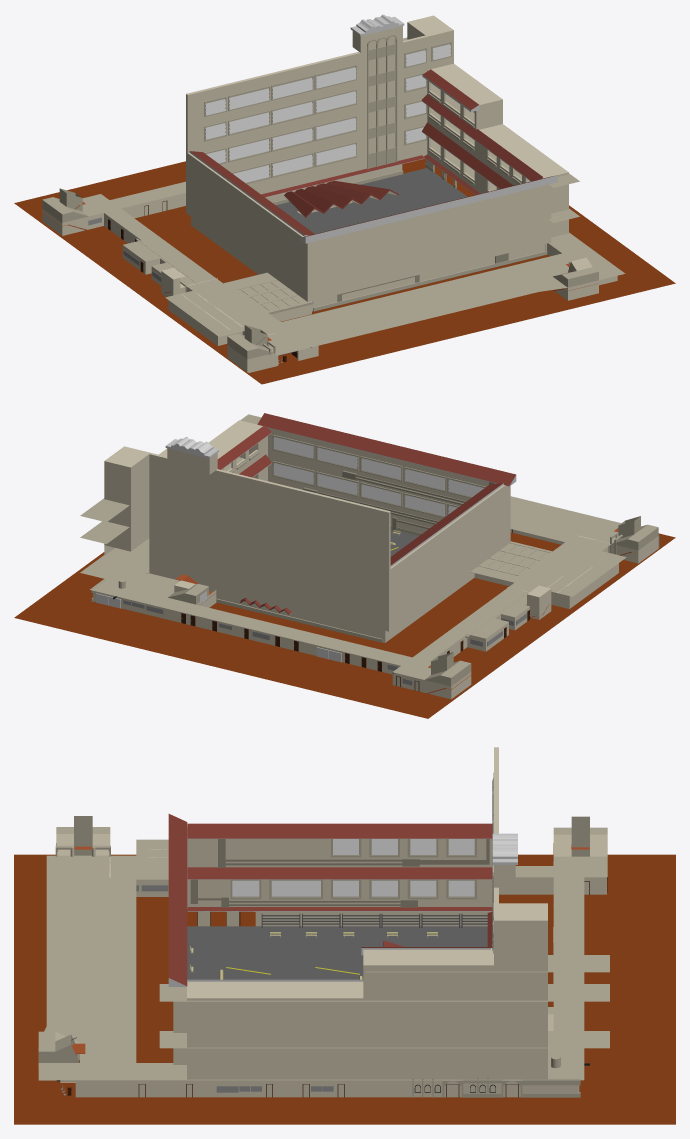
Rendered from Ground flr.fbx.
3 renders of one model, top to bottom at view 1: azimuth 30°, elevation 25°; view 2: azimuth 150°, elevation 25°; view 3: azimuth 270°, elevation 25°, orthographic. The views are drawn at different scales.
Parts seen in each view (by area): view 1: Ground flr; view 2: Ground flr; view 3: Ground flr.
Part boxes in pixels (x1,y1,x2,y2): Ground flr: (14,14,675,384); Ground flr: (14,413,675,718); Ground flr: (14,747,675,1124).
Bounding box in the file's own units: 16487 × 5991 × 17083.
